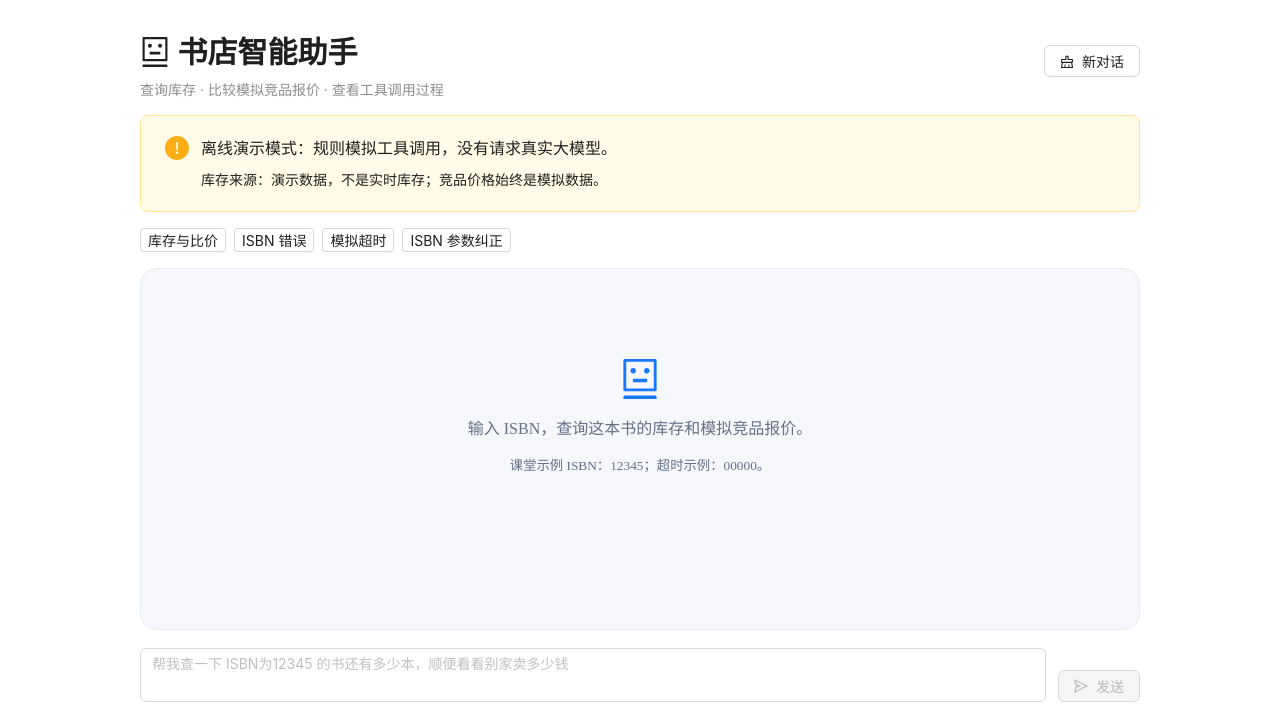
Test case: 发送问题并显示自然语言回复和工具名参数
Expected: the text "离线演示模式：规则模拟工具调用，没有请求真实大模型。" is shown, top-left (201, 138), bottom-right (617, 158)
Click the button "库存与比价": click(183, 240) top-left (140, 228), bottom-right (226, 252)
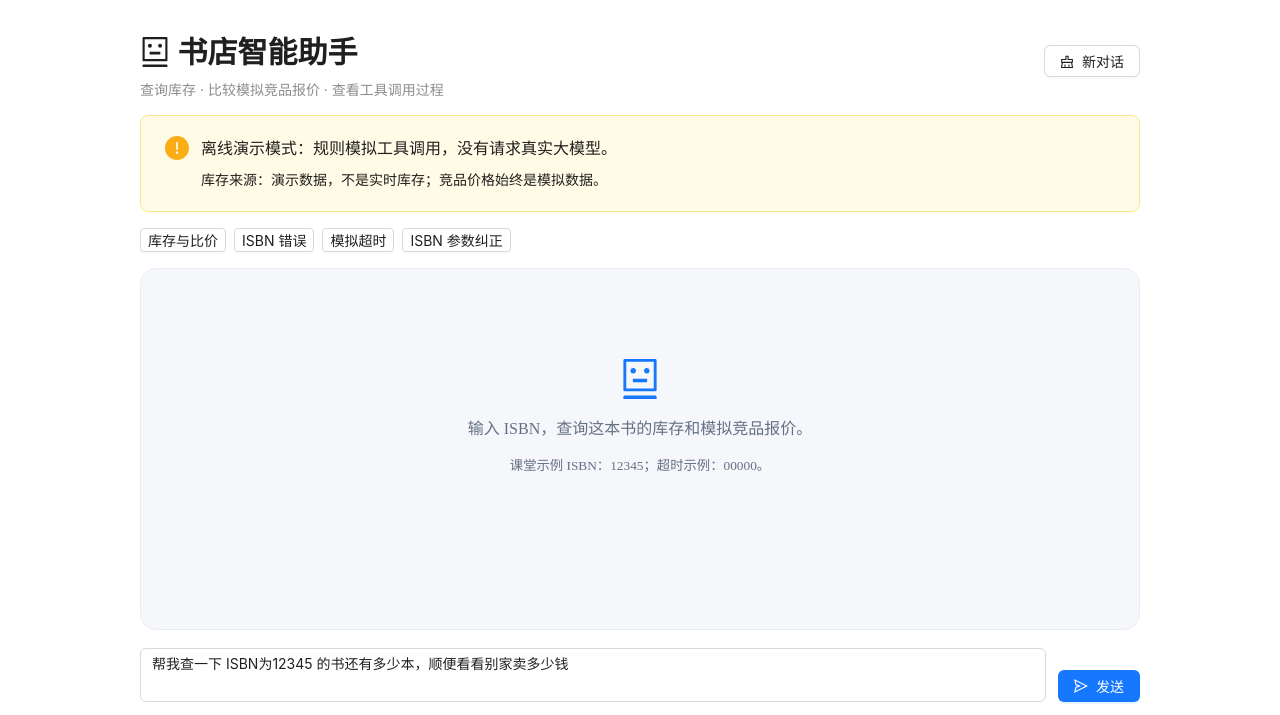
Click the button "发送": click(1099, 686) top-left (1058, 670), bottom-right (1140, 702)
(page scrolled)
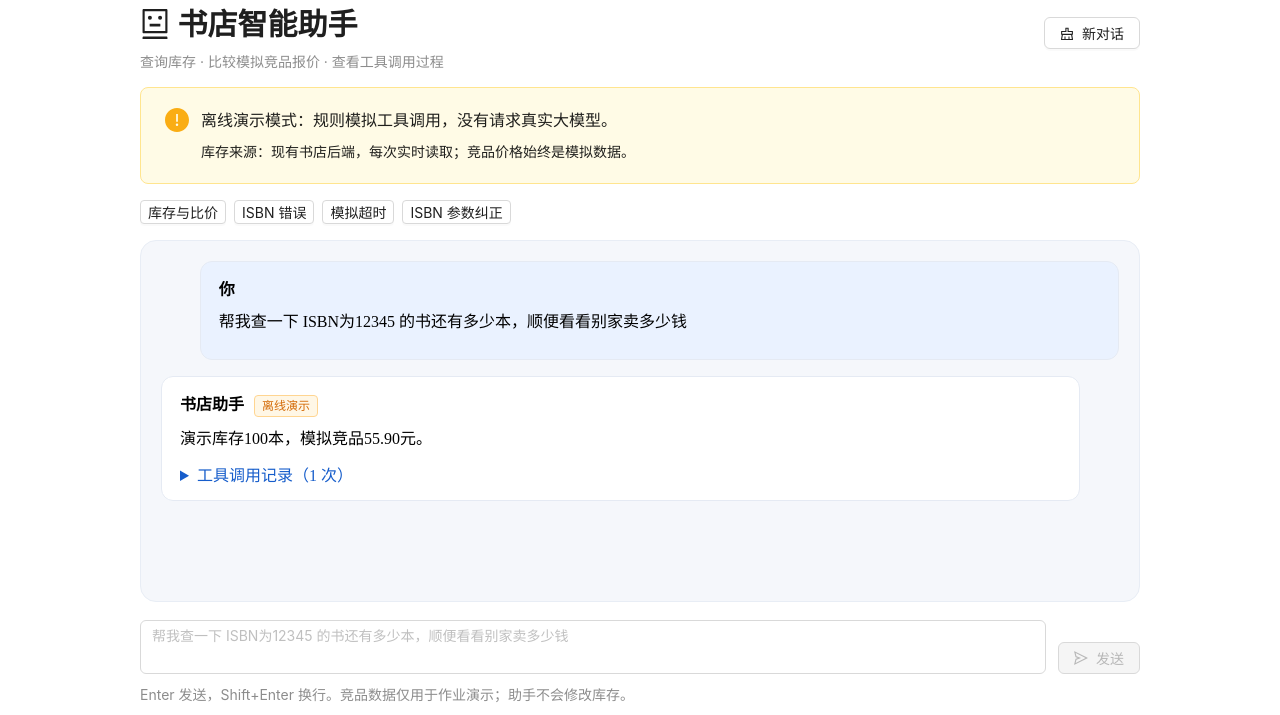
Expected: the text "演示库存100本，模拟竞品55.90元。" is shown, top-left (180, 430), bottom-right (432, 447)
